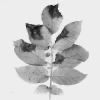Potato leaf early blight: (12, 39, 49, 68), (54, 43, 89, 70), (52, 20, 83, 50), (25, 22, 52, 50), (40, 3, 63, 34)
